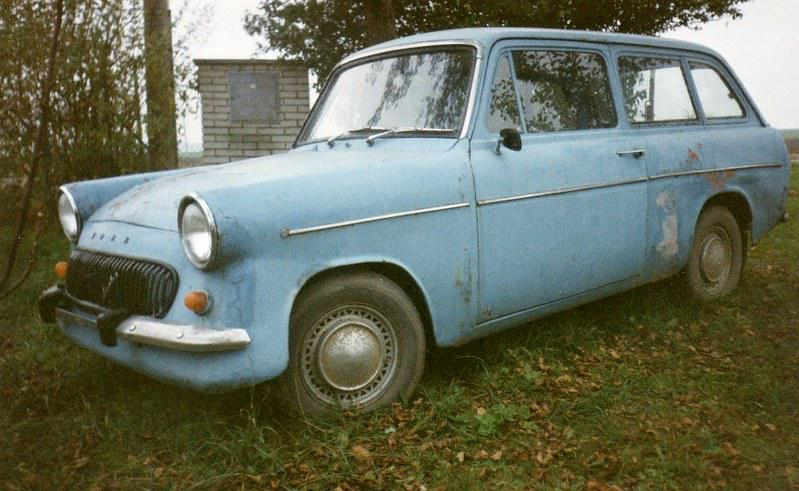doorouter-dent: (468, 157, 611, 308)
fender-dent: (288, 184, 490, 344)
quaterpanel-dent: (633, 123, 784, 240)
